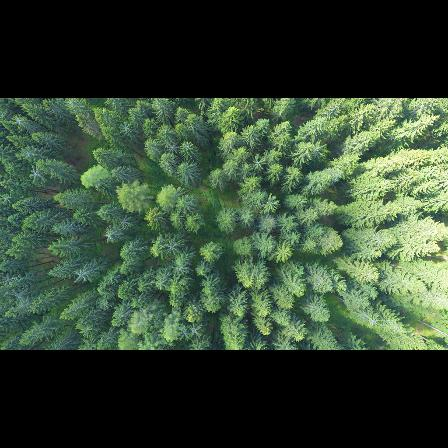Sick: (161, 238, 182, 257), (28, 166, 46, 186), (73, 267, 92, 284), (250, 154, 267, 173), (10, 113, 29, 130), (117, 121, 136, 137), (164, 139, 180, 157), (171, 261, 187, 277), (102, 228, 116, 243), (177, 328, 191, 343), (189, 325, 203, 338)
